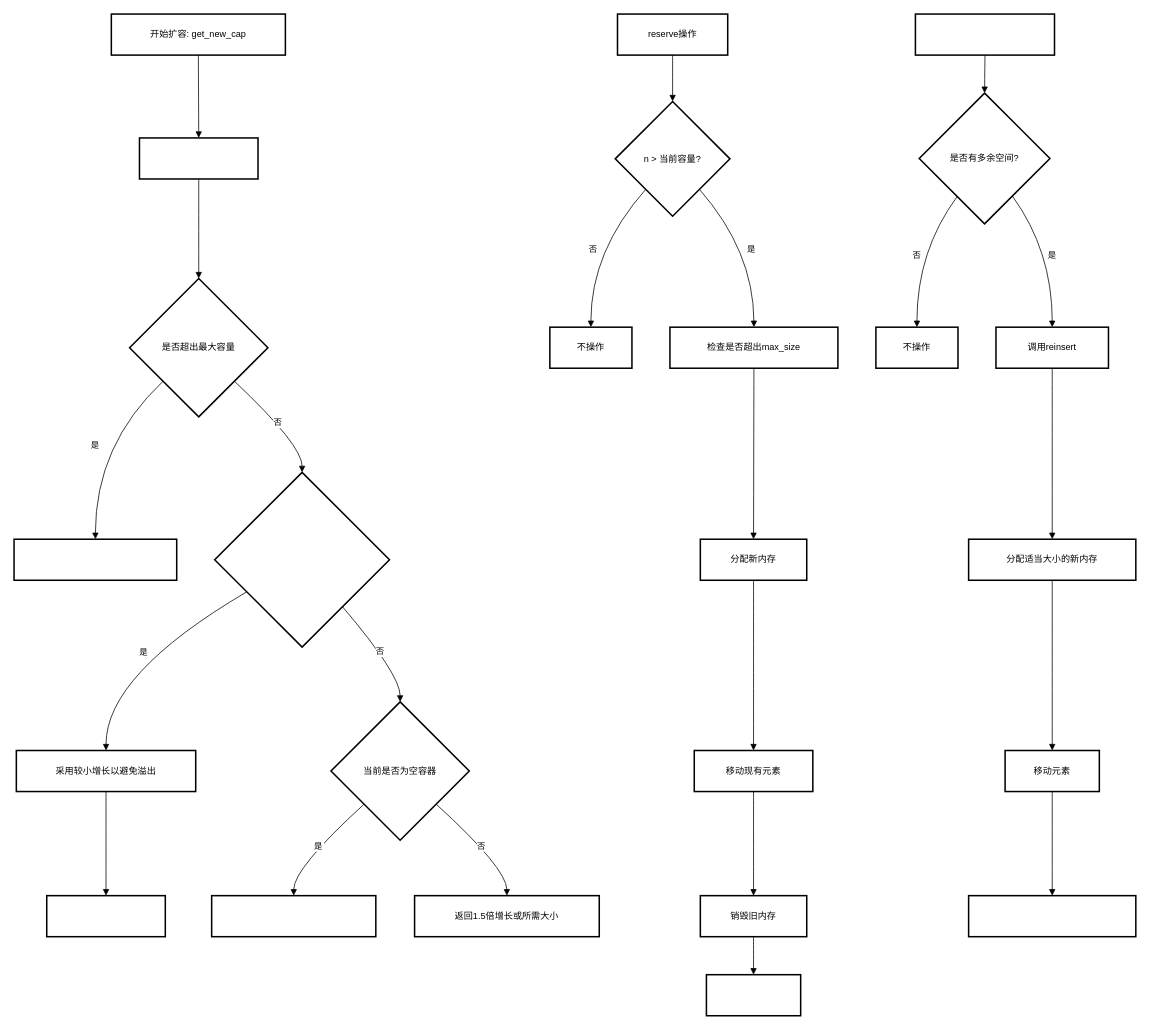
The diagram is 1149 pixels wide and 1029 high, and some of its shapes have lost their labels. The shapes that lost their labels are listed below. From the top down, each one's centre as x and y in pixels, then its label:
At point (984, 34): "shrink_to_fit操作".
At point (198, 158): "计算当前容量".
At point (95, 559): "抛出length_error异常".
At point (302, 559): "当前容量是否接近最大值".
At point (106, 916): "返回合适大小".
At point (293, 916): "返回max16或add_size".
At point (1051, 916): "销毁旧内存并更新指针".
At point (753, 995): "更新指针".
